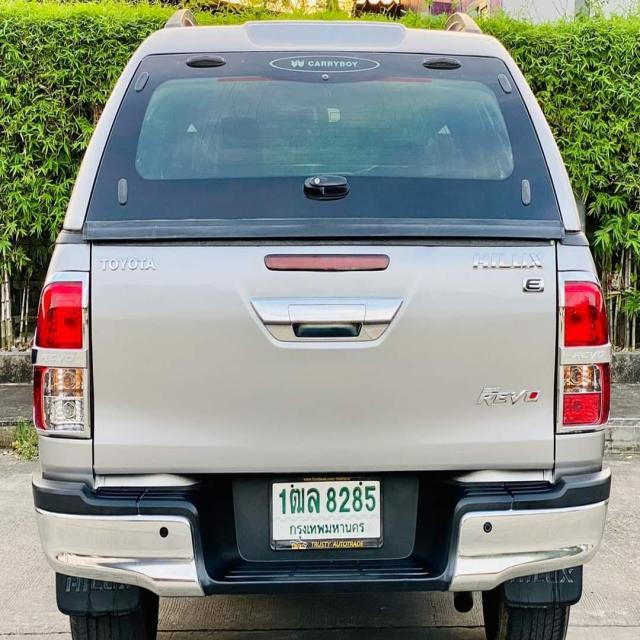license_plate: (268, 477, 386, 553)
